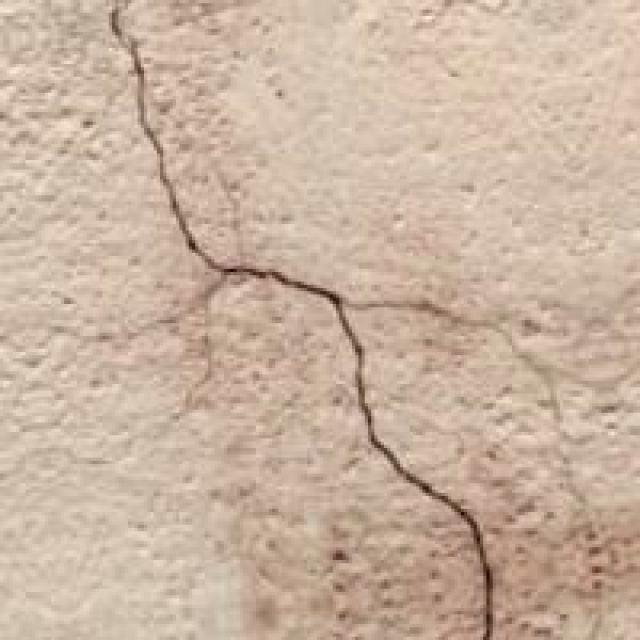crack: (94, 0, 528, 640)
